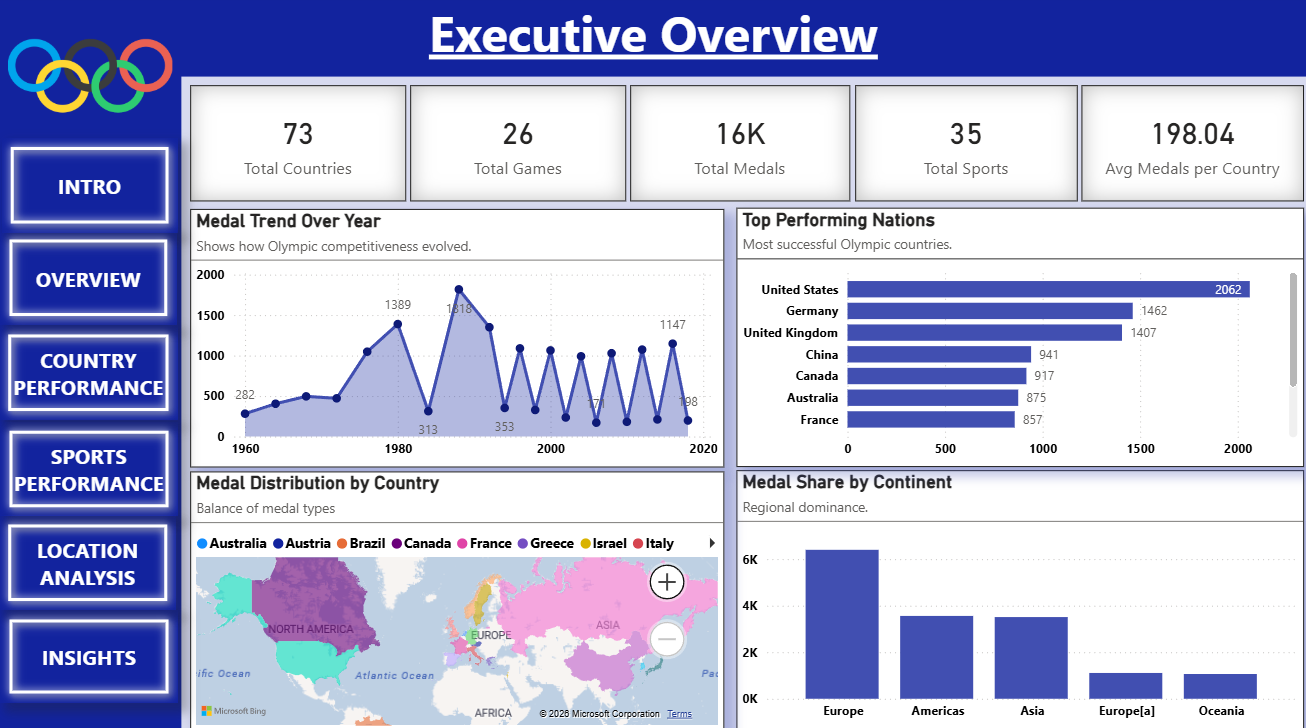

What the dashboard file says about the page in this screenshot:
{"tool":"powerbi","page":{"name":"Executive Overview","canvas":[1280,720],"ordinal":2},"visuals":[{"type":"textbox","box":[0,0,1280.3,80.7],"z":0},{"type":"textbox","box":[0,0,178.5,720.2],"z":1000},{"type":"image","box":[0,0,178.5,160.2],"z":2000},{"type":"lineChart","title":"Medal Trend Over Year","fields":{"Y":["Sheet1.Total Medals"],"Category":["Sheet1.games_year"]},"box":[187.5,209.7,522.2,252.8],"z":3000},{"type":"clusteredColumnChart","title":"Medal Share by Continent","fields":{"Y":["Sheet1.Total Medals"],"Category":["Sheet1.games_continent"]},"box":[721.2,466.2,555,253.8],"z":4000},{"type":"filledMap","title":"Medal Distribution by Country","fields":{"Category":["Sheet1.games_country"],"Series":["Sheet1.games_country"]},"box":[187.5,466.7,522.2,254.2],"z":5000},{"type":"card","fields":{"Values":["Sheet1.Total Countries"]},"box":[187.1,89.3,211.6,113.7],"z":6000},{"type":"card","fields":{"Values":["Sheet1.Total Games"]},"box":[402.3,89.3,211.6,113.7],"z":7000},{"type":"card","fields":{"Values":["Sheet1.Total Medals"]},"box":[617.5,89.3,215.2,113.7],"z":8000},{"type":"card","fields":{"Values":["Sheet1.Total Sports"]},"box":[837.6,89.3,217.7,113.7],"z":9000},{"type":"card","fields":{"Values":["Sheet1.Avg Medals per Country"]},"box":[1059,89.3,217.7,113.7],"z":10000},{"type":"clusteredBarChart","title":"Top Performing Nations","fields":{"Category":["Sheet1.npc_name"],"Y":["Sheet1.Total Medals"]},"box":[721.2,208.8,555,253.8],"z":11000},{"type":"actionButton","box":[2.4,140.6,172.4,92.9],"z":12000},{"type":"actionButton","box":[1.2,231.1,172.4,92.9],"z":13000},{"type":"actionButton","box":[0,324.1,174.9,92.9],"z":14000},{"type":"actionButton","box":[1.2,418.2,173.6,92.9],"z":15000},{"type":"actionButton","box":[0,509.9,173.6,92.9],"z":16000},{"type":"actionButton","box":[1.2,602.9,173.6,90.5],"z":17000}]}

Visuals, with their boxes in screenshot pixels (x1, y1, x2, y2), scaled from the page's 1280x720 canvas onto the 1306x728 screenshot:
textbox: Rect(0, 0, 1305, 82)
textbox: Rect(0, 0, 182, 727)
image: Rect(0, 0, 182, 162)
"Medal Trend Over Year" lineChart: Rect(191, 212, 724, 468)
"Medal Share by Continent" clusteredColumnChart: Rect(736, 471, 1302, 727)
"Medal Distribution by Country" filledMap: Rect(191, 472, 724, 727)
card - Sheet1.Total Countries: Rect(191, 90, 407, 205)
card - Sheet1.Total Games: Rect(410, 90, 626, 205)
card - Sheet1.Total Medals: Rect(630, 90, 850, 205)
card - Sheet1.Total Sports: Rect(855, 90, 1077, 205)
card - Sheet1.Avg Medals per Country: Rect(1081, 90, 1303, 205)
"Top Performing Nations" clusteredBarChart: Rect(736, 211, 1302, 468)
actionButton: Rect(2, 142, 178, 236)
actionButton: Rect(1, 234, 177, 328)
actionButton: Rect(0, 328, 178, 422)
actionButton: Rect(1, 423, 178, 517)
actionButton: Rect(0, 516, 177, 609)
actionButton: Rect(1, 610, 178, 701)
